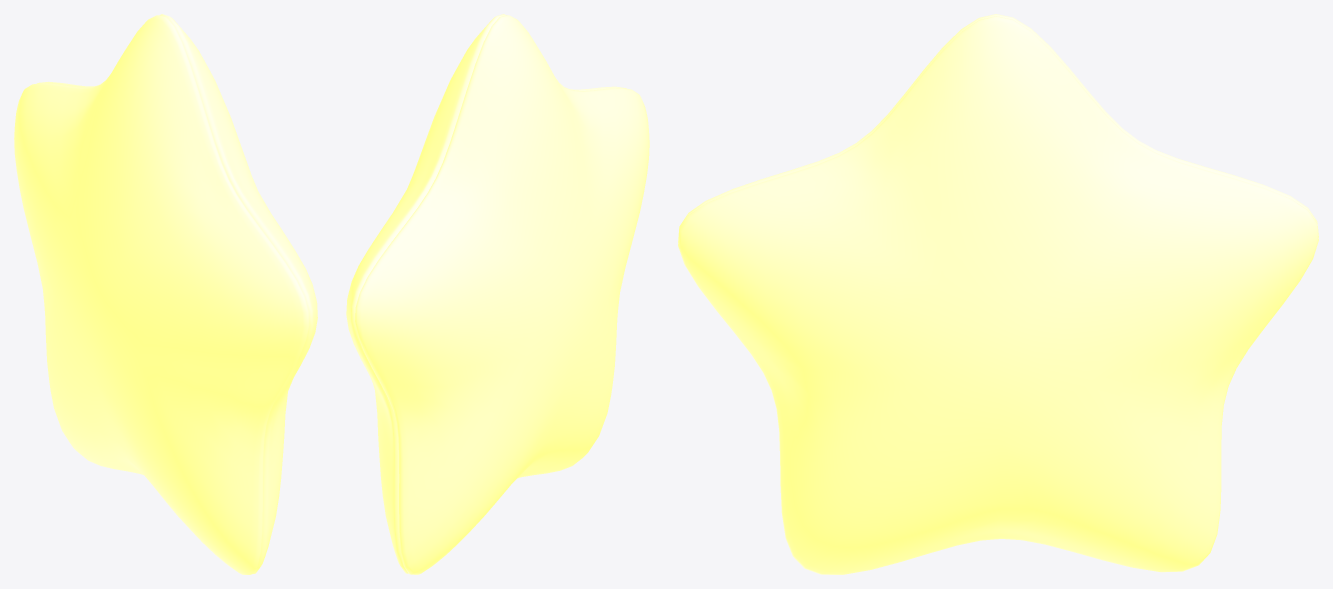
Rendered from Star2.gltf.
3 views of the same model, side by side, from view 1: azimuth 30°, elevation 25°; view 2: azimuth 150°, elevation 25°; view 3: azimuth 270°, elevation 25° (orthographic). The views are drawn at different scales.
Visible parts, largest first — view 1: Object_4; view 2: Object_4; view 3: Object_4.
Part boxes in pixels (x1,y1,x2,y2): Object_4: [14, 14, 317, 574]; Object_4: [346, 14, 649, 574]; Object_4: [678, 14, 1318, 574].
Bounding box in the file's own units: 0.5025 × 1.56 × 1.62.
Materials: 1 (1 with a texture image).
